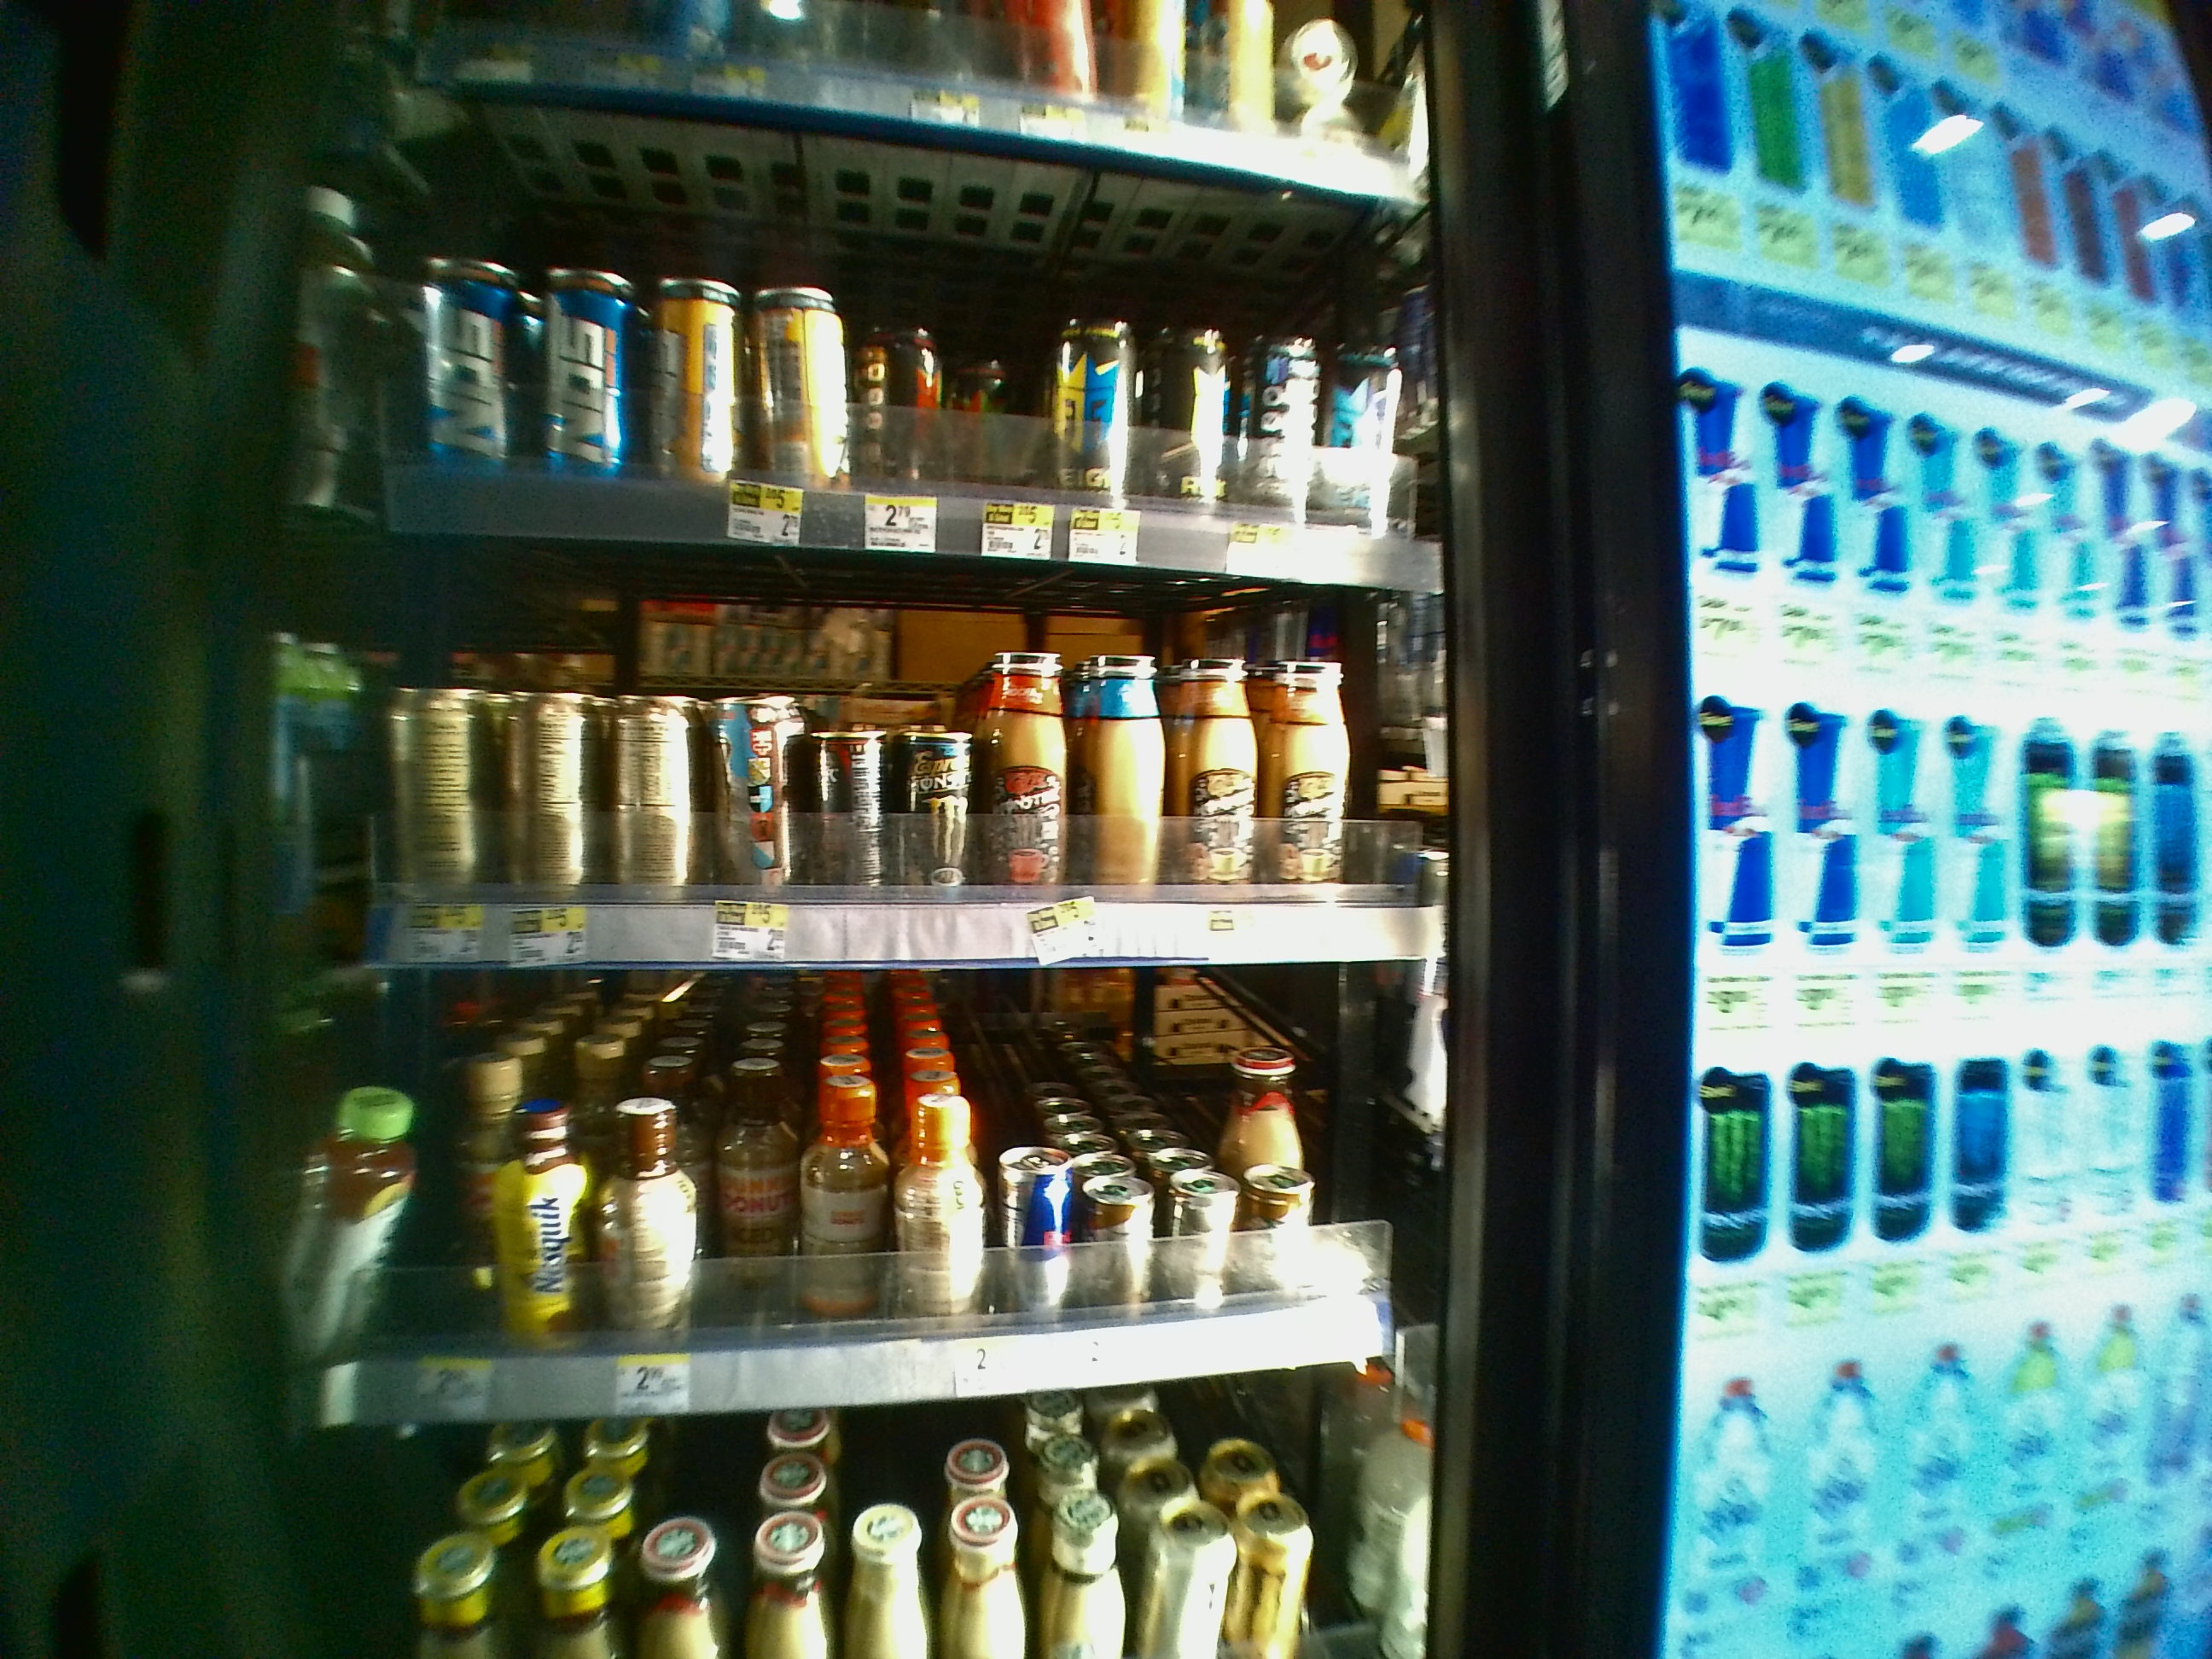shelf: (268, 957, 1472, 1392)
